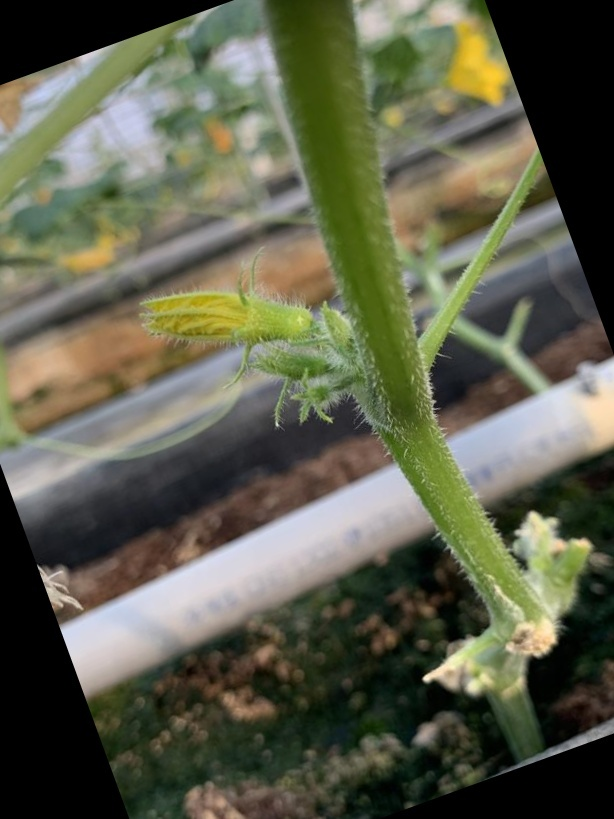bud: (126, 281, 322, 351)
